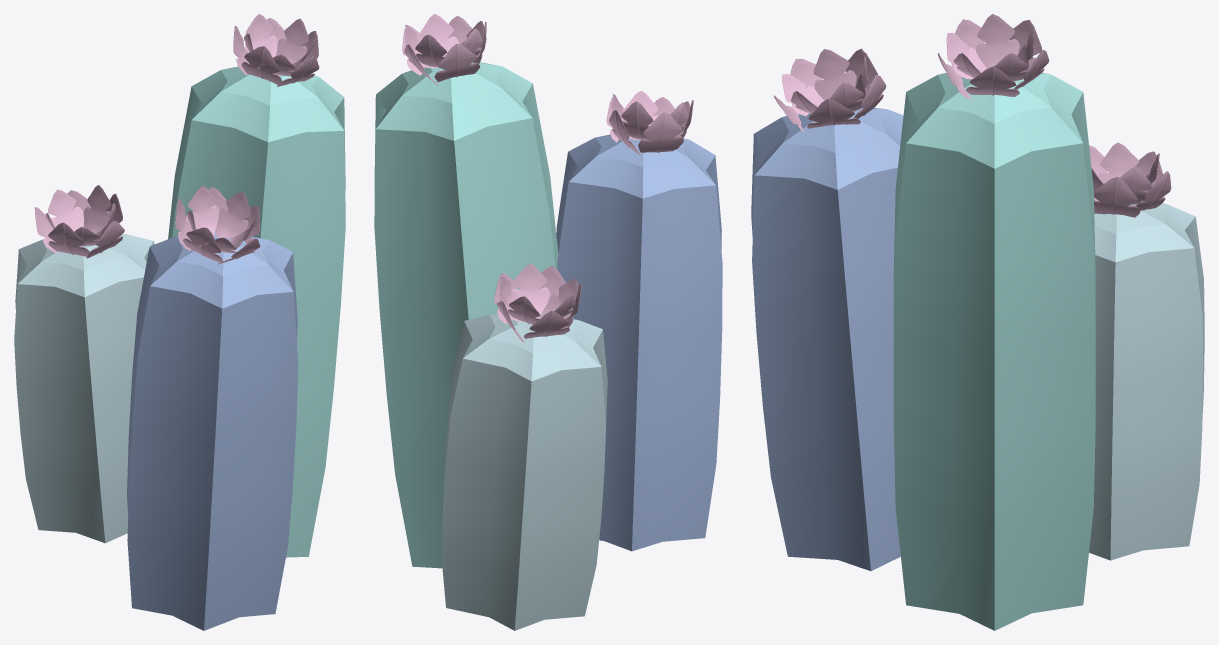
The model's file is cactus2.fbx.
The picture shows the model from 3 angles, left to right: view 1: azimuth 30°, elevation 25°; view 2: azimuth 150°, elevation 25°; view 3: azimuth 270°, elevation 25°; orthographic projection. The views are drawn at different scales.
Parts seen in each view (by area): view 1: pCylinder56, pCylinder55, pCylinder57, pPlane341, pPlane342, pPlane99, pPlane332, pPlane102, pPlane340, pPlane100, pPlane345, pPlane339 (+3 smaller); view 2: pCylinder55, pCylinder56, pCylinder57, pPlane352, pPlane103, pPlane336, pPlane342, pPlane350, pPlane347, pPlane345, pPlane99, pPlane338; view 3: pCylinder55, pCylinder56, pCylinder57, pPlane343, pPlane337, pPlane353, pPlane355, pPlane349, pPlane344, pPlane101, pPlane335, pPlane346 (+2 smaller).
Part boxes in pixels (bbox=[...]): pCylinder56: bbox=[127, 230, 298, 630]; pCylinder55: bbox=[168, 66, 345, 557]; pCylinder57: bbox=[14, 234, 154, 543]; pPlane341: bbox=[215, 192, 250, 238]; pPlane342: bbox=[186, 186, 219, 236]; pPlane99: bbox=[48, 189, 84, 231]; pPlane332: bbox=[276, 18, 308, 63]; pPlane102: bbox=[83, 185, 110, 233]; pPlane340: bbox=[241, 46, 282, 84]; pPlane100: bbox=[48, 222, 89, 256]; pPlane345: bbox=[245, 14, 277, 57]; pPlane339: bbox=[182, 227, 222, 262]; pCylinder55: bbox=[374, 62, 558, 568]; pCylinder56: bbox=[556, 134, 722, 551]; pCylinder57: bbox=[441, 312, 607, 630]; pPlane352: bbox=[638, 112, 683, 152]; pPlane103: bbox=[513, 263, 550, 318]; pPlane336: bbox=[434, 43, 479, 82]; pPlane342: bbox=[621, 101, 653, 139]; pPlane350: bbox=[523, 311, 569, 338]; pPlane347: bbox=[420, 14, 458, 56]; pPlane345: bbox=[415, 34, 447, 68]; pPlane99: bbox=[508, 296, 540, 324]; pPlane338: bbox=[539, 279, 578, 318]; pCylinder55: bbox=[893, 72, 1095, 630]; pCylinder56: bbox=[751, 108, 903, 571]; pCylinder57: bbox=[1089, 203, 1204, 560]; pPlane343: bbox=[976, 14, 1020, 68]; pPlane337: bbox=[813, 49, 856, 100]; pPlane353: bbox=[1094, 177, 1140, 217]; pPlane355: bbox=[965, 66, 1019, 96]; pPlane349: bbox=[807, 99, 860, 128]; pPlane344: bbox=[1098, 142, 1138, 183]; pPlane101: bbox=[946, 32, 987, 79]; pPlane335: bbox=[782, 74, 824, 116]; pPlane346: bbox=[1136, 171, 1171, 210].
Size of the model in its own units: 1.48 by 2.57 by 1.81.
